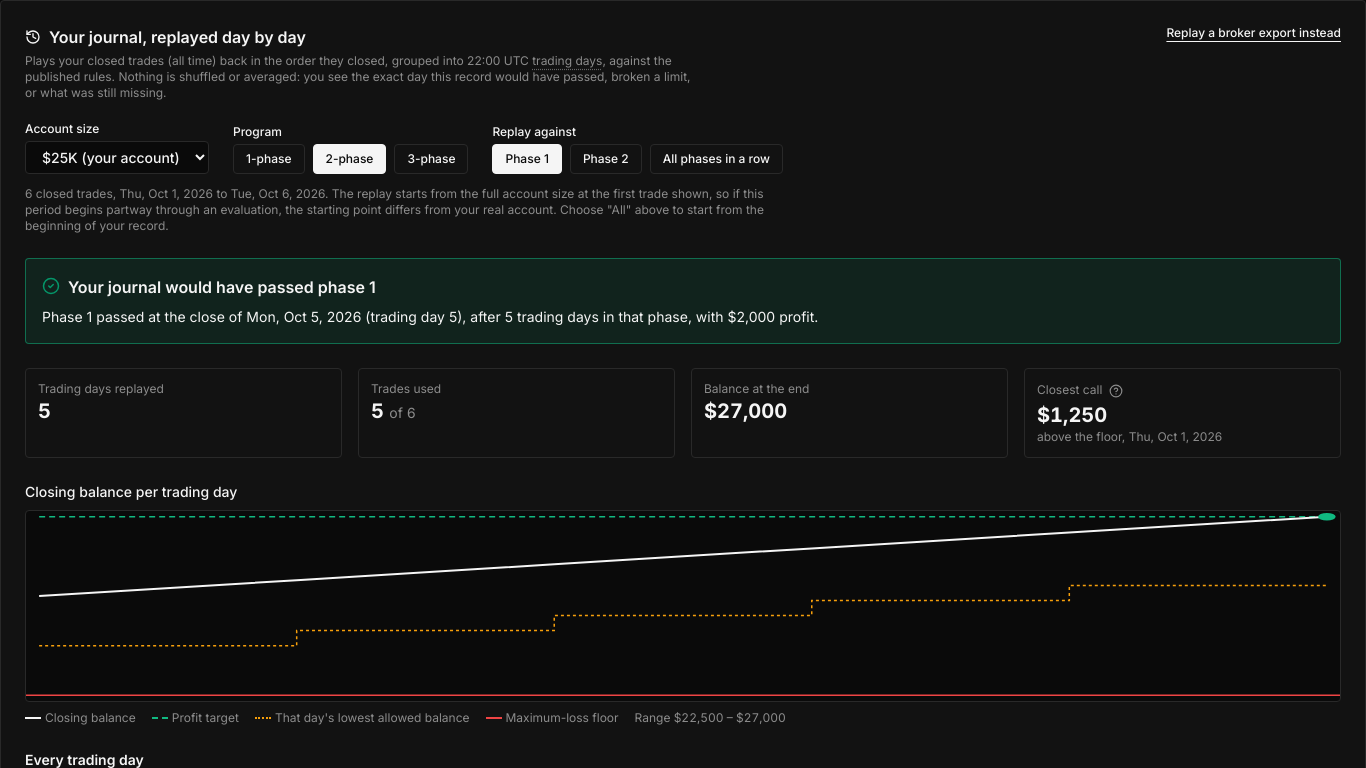
Test: JournalReplayCard › resizes the record when another account size is chosen
The image size is (1366, 768).
Select "$50K" in the dropdown with test id "journal-replay-size" at x=117, y=158, box [25,141,209,174]
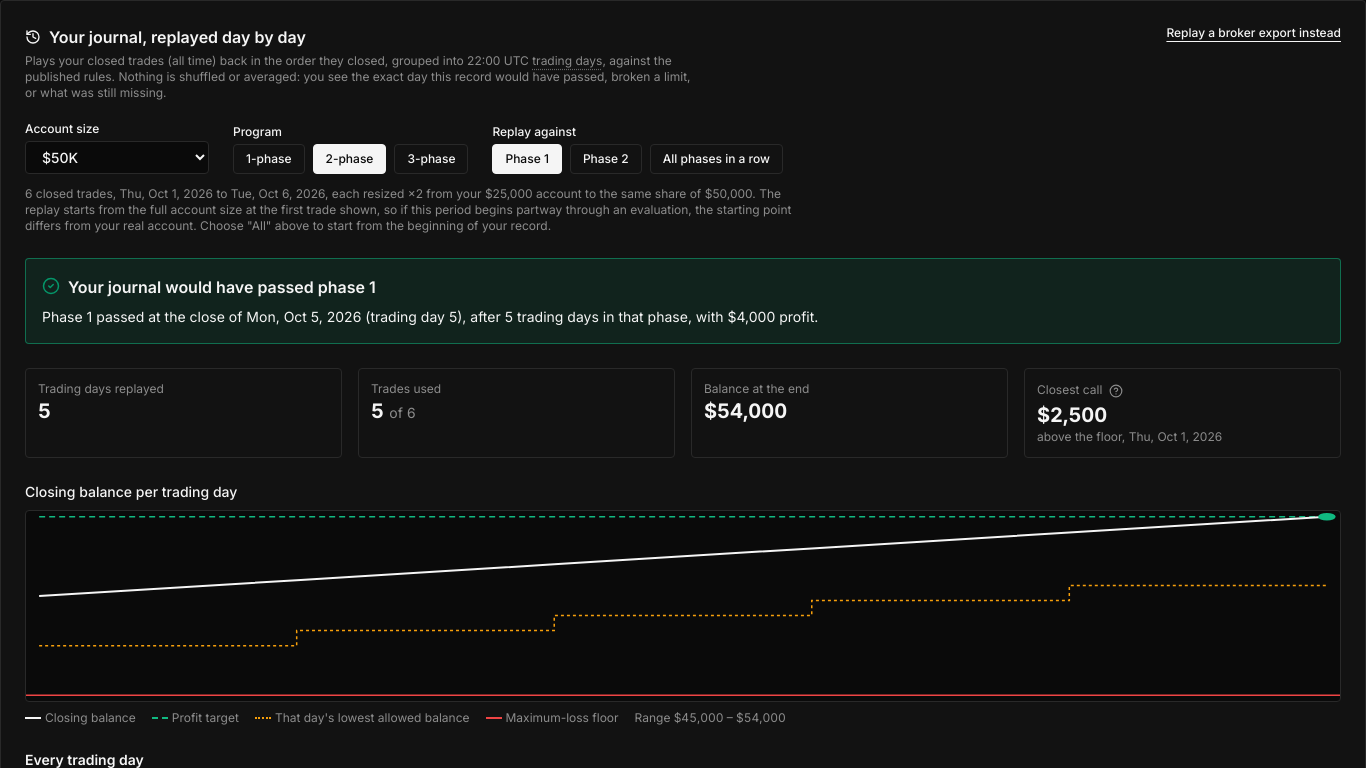
Expected: the element with test id "replay-verdict" shows "Your journal would have passed phase 1", [68,277,376,297]
Now the text with test id "journal-replay-read" shows "each resized ×2 from your $25,000 account to the same share of $50,000", box [325,186,752,201]
